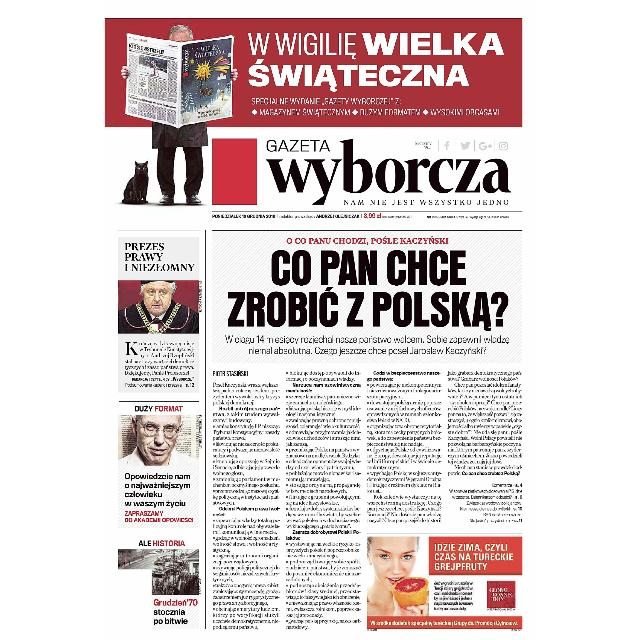article: (209, 229, 525, 633)
